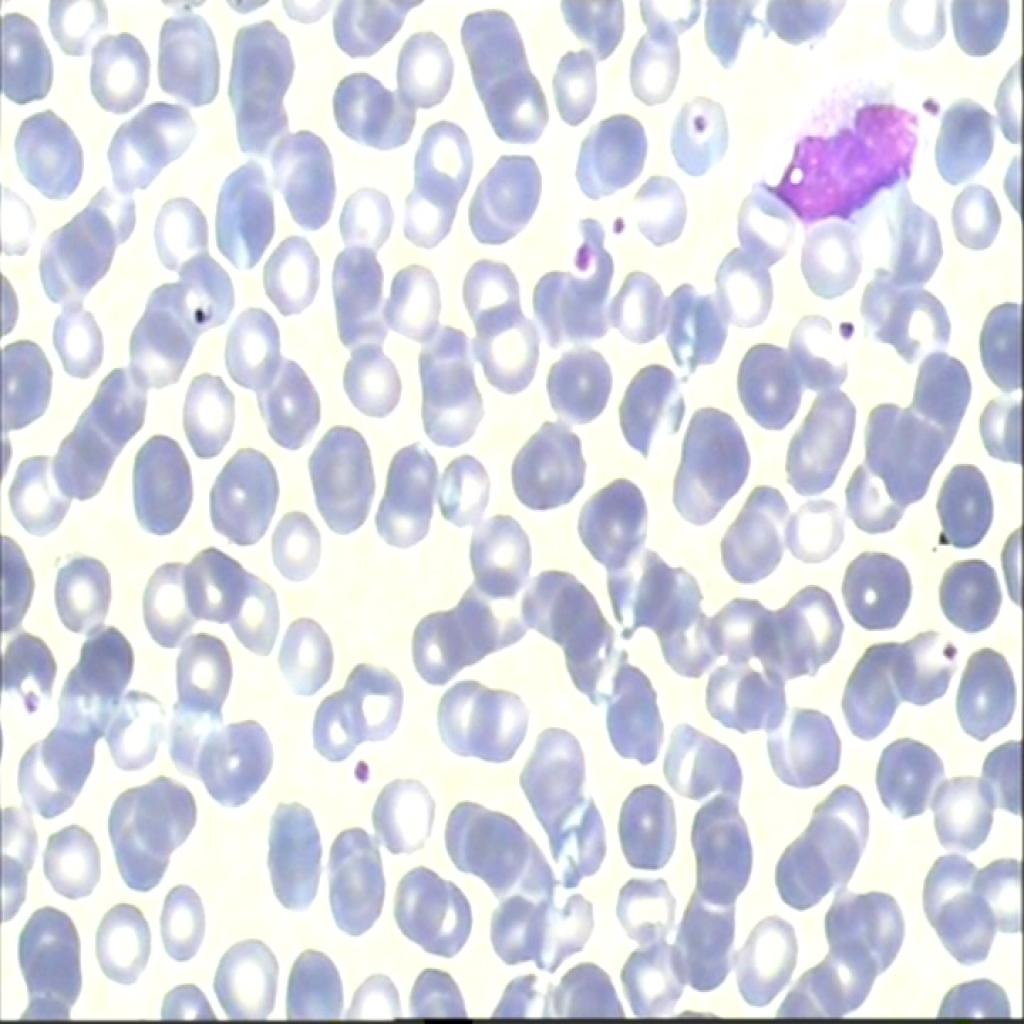Monosit: (766, 60, 926, 268)
Platelet: (346, 741, 381, 795), (602, 206, 637, 244), (562, 236, 594, 268), (934, 635, 958, 672), (838, 308, 859, 343), (684, 108, 714, 132), (922, 80, 938, 114)
